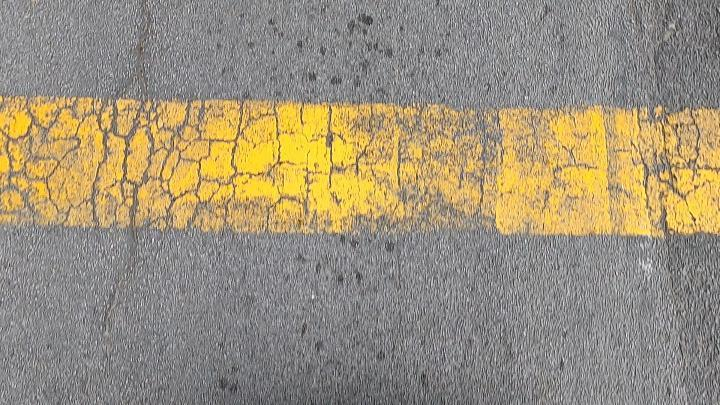Lane: (0, 92, 720, 240), (0, 96, 719, 236)
